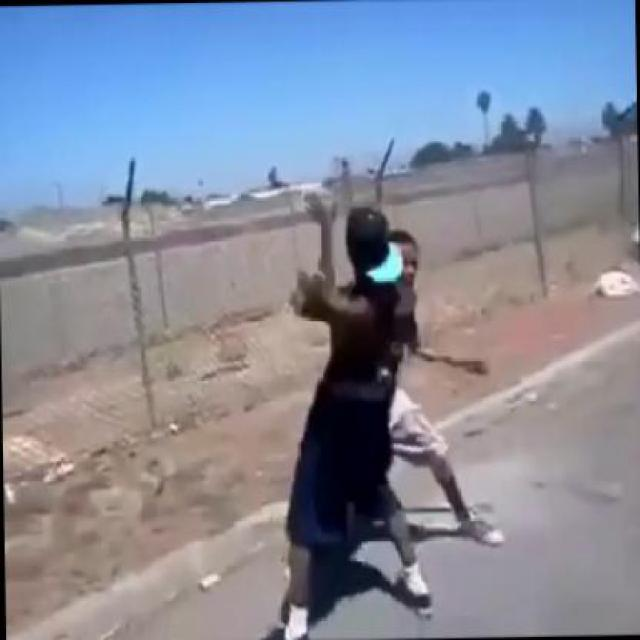fight: (268, 190, 504, 638)
